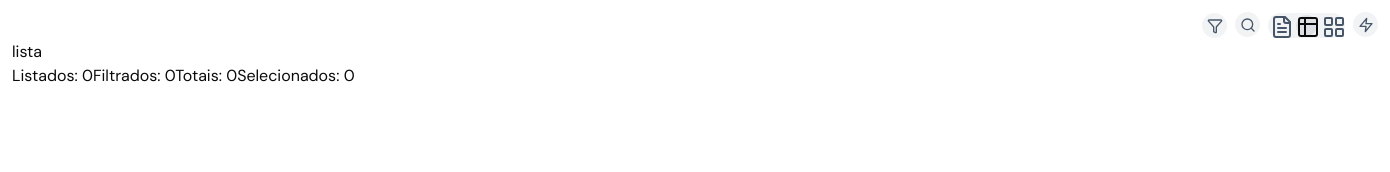
Test: CadastroListaChrome — pesquisa integrada fechada ao montar › clique na lupa revela o campo de busca
Click the button named "Abrir pesquisa" at (1248, 24), box [1235,12,1260,37]
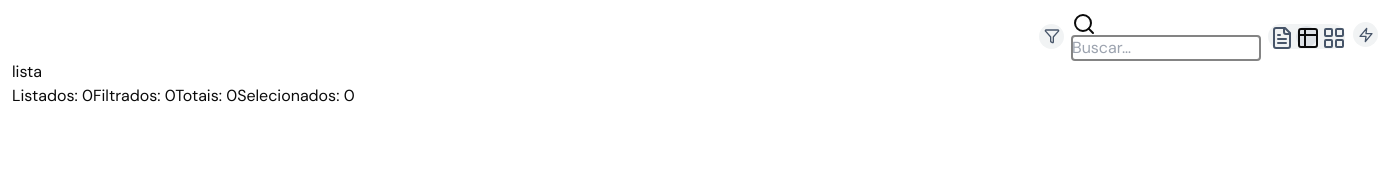
Result: the field with placeholder "Buscar…" is shown at [1072,36,1260,60]
